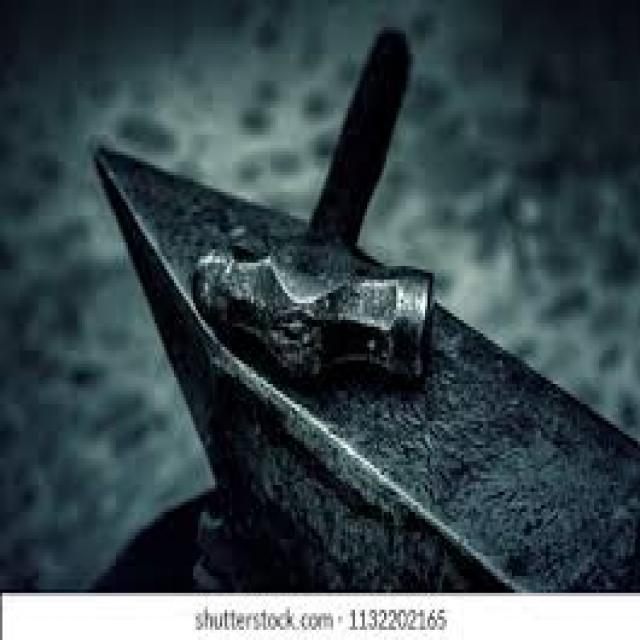hammer: (184, 17, 446, 404)
